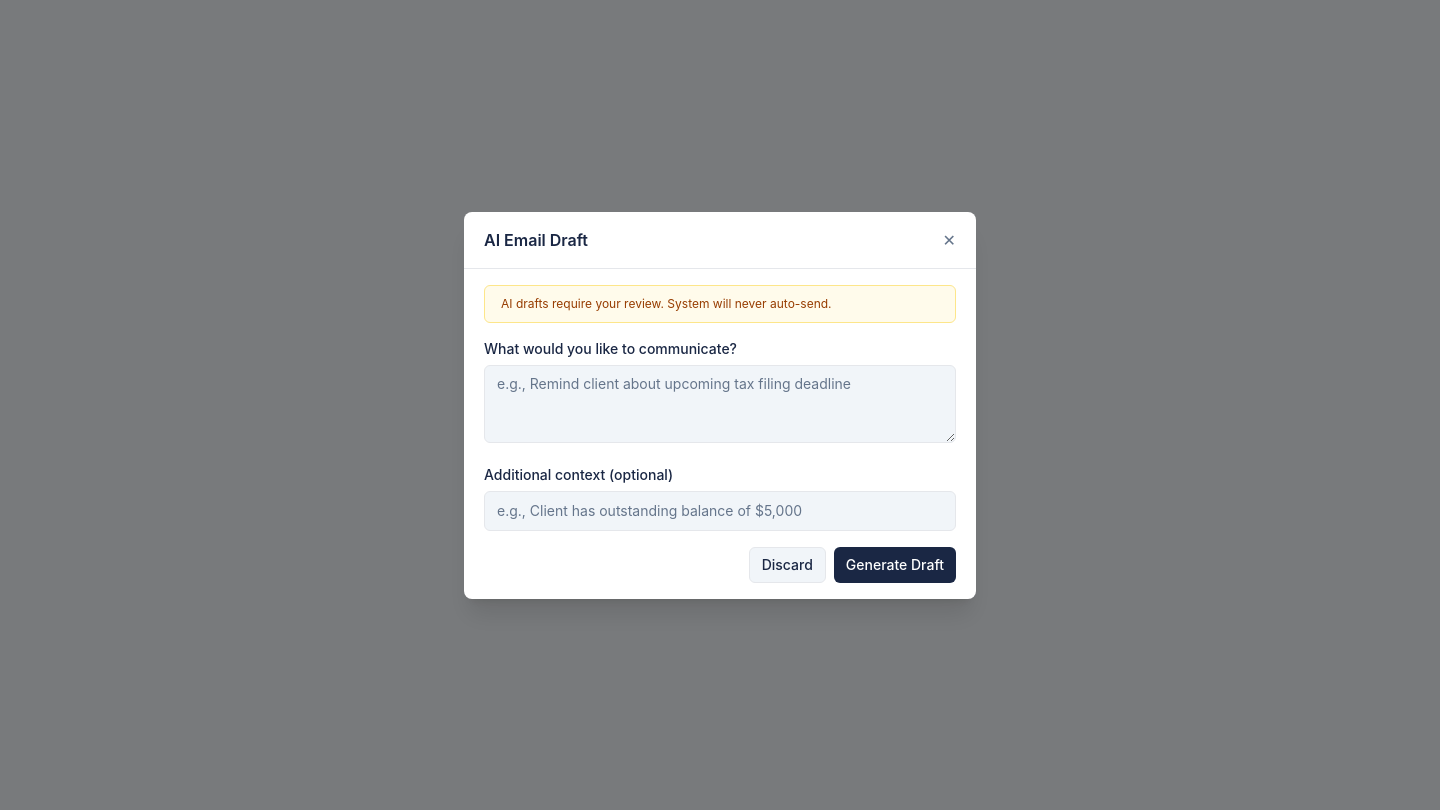
Test: AiDraftModal › shows validation error when topic is empty and generate is clicked
Step 1. Click the button "Generate Draft" → (895, 564), box [834,546,956,582]
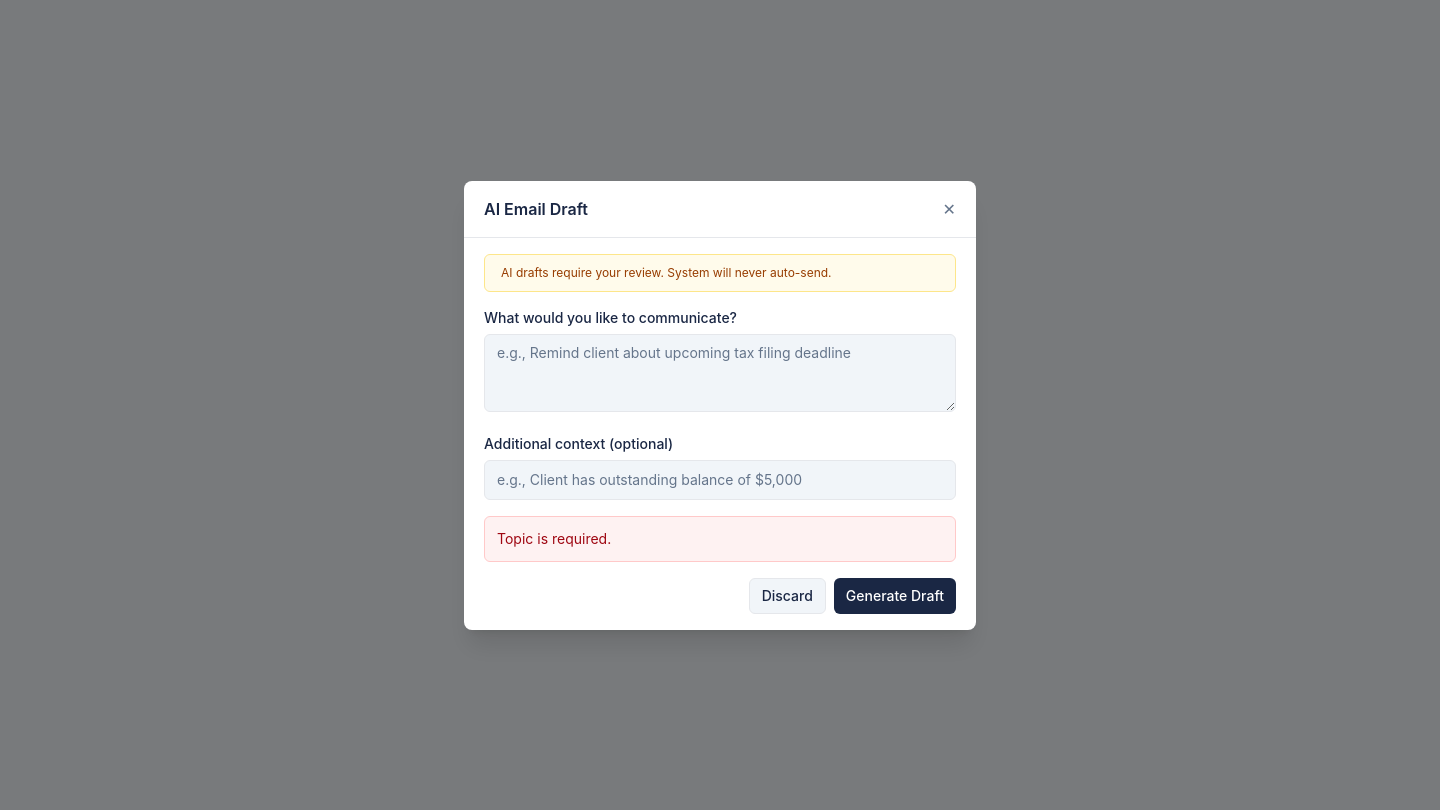
Expected: the text "Topic is required." is shown, [484,516,956,562]
